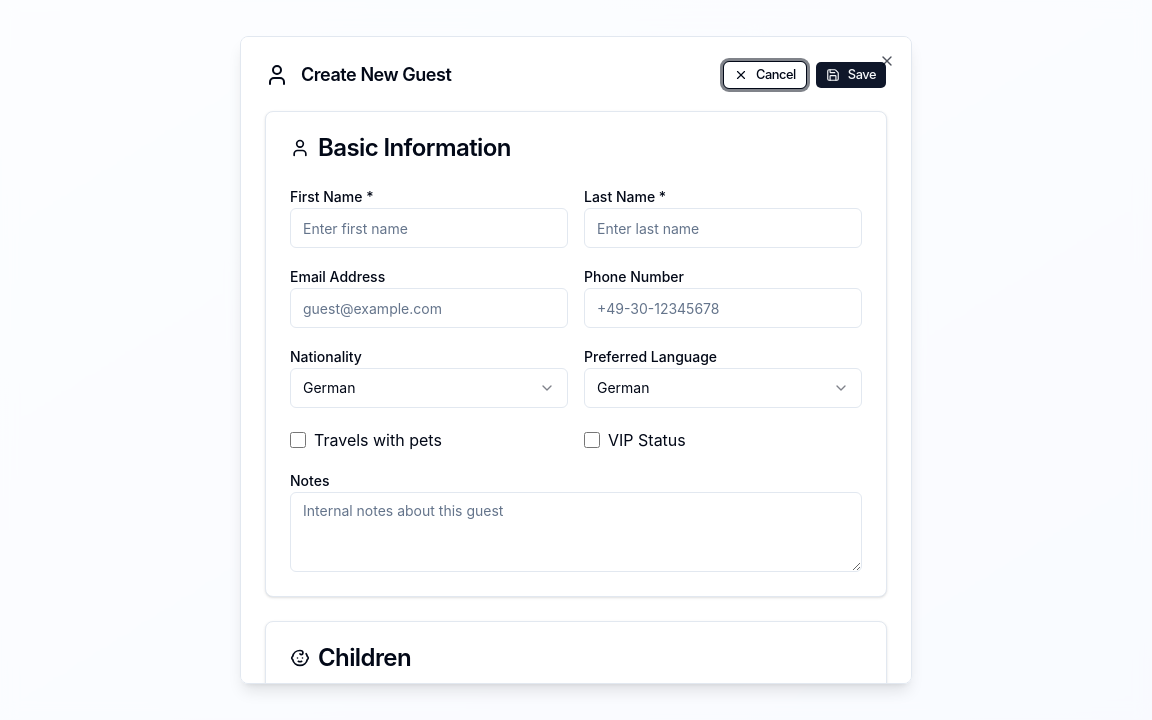
Scenario: GuestProfileModal › create mode › shows inline validation errors on missing required fields
The width and height of the screenshot is (1152, 720).
Step 1. Click the button "Save" → point(851, 75), box top-left (815, 61), bottom-right (887, 89)
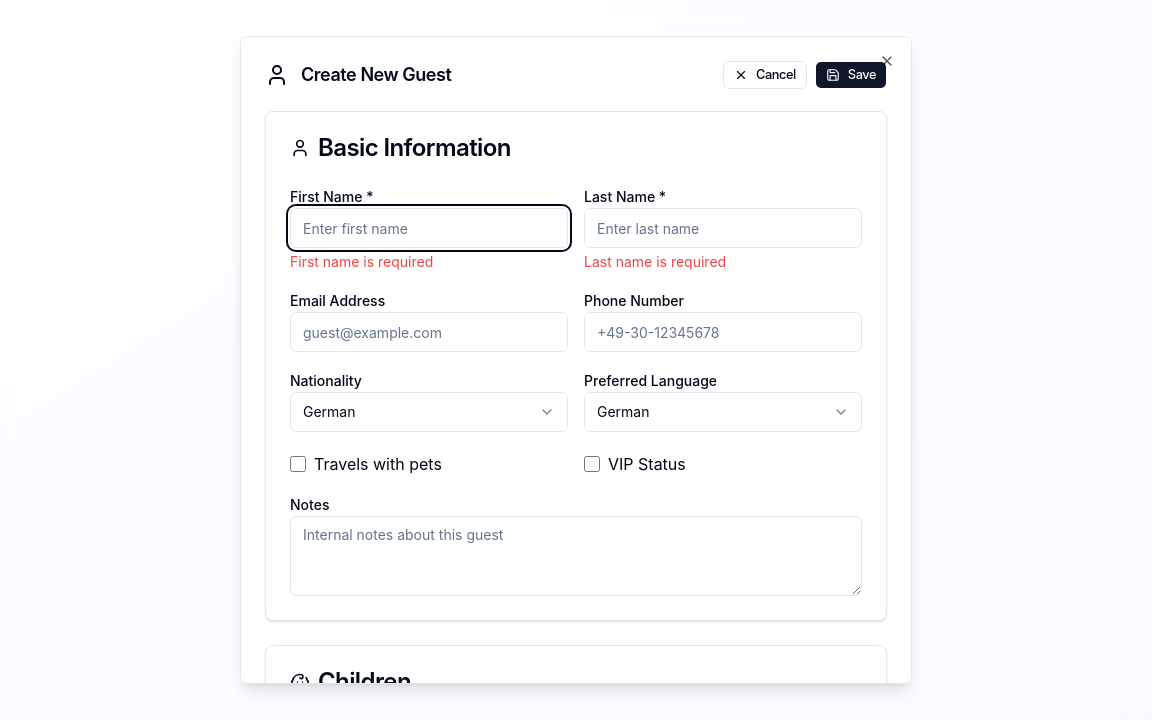
Expected: the text "First name is required" is shown, top-left (290, 253), bottom-right (433, 270)
Expected: the text "Last name is required" is shown, top-left (584, 253), bottom-right (726, 270)
